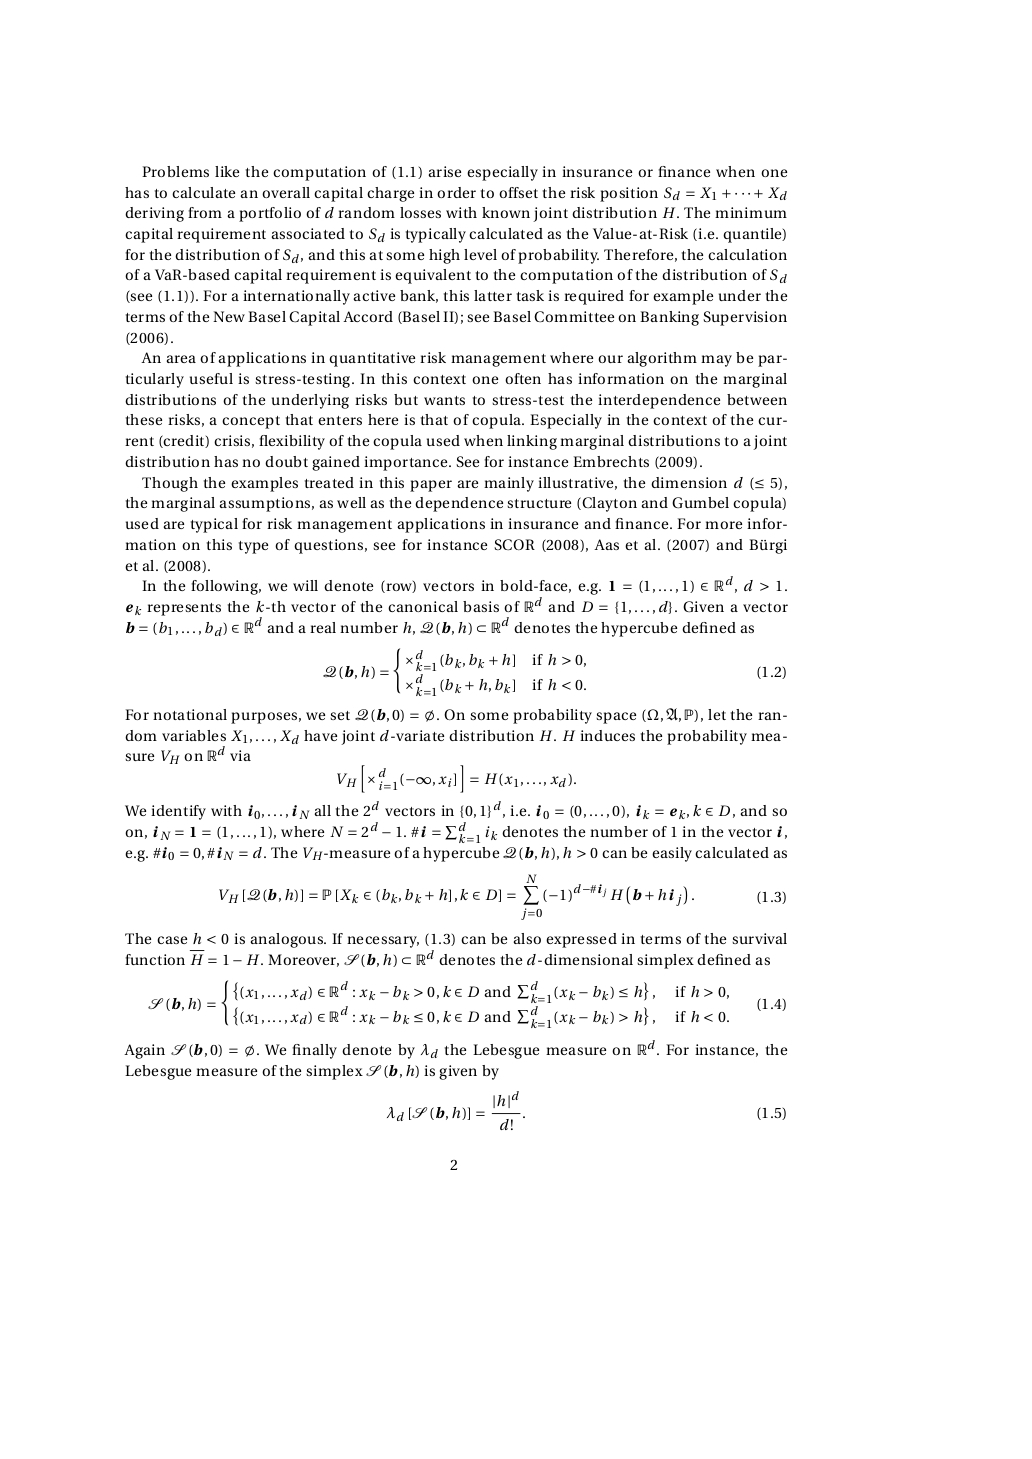formula: (149, 979, 785, 1029), (219, 874, 785, 919), (323, 647, 785, 697), (386, 1090, 785, 1131), (337, 764, 575, 793)
